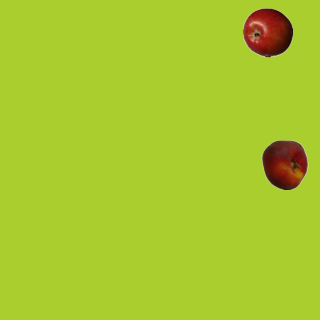Apple Braeburn: (242, 7, 292, 57)
Nectarine Flat: (259, 139, 309, 189)
